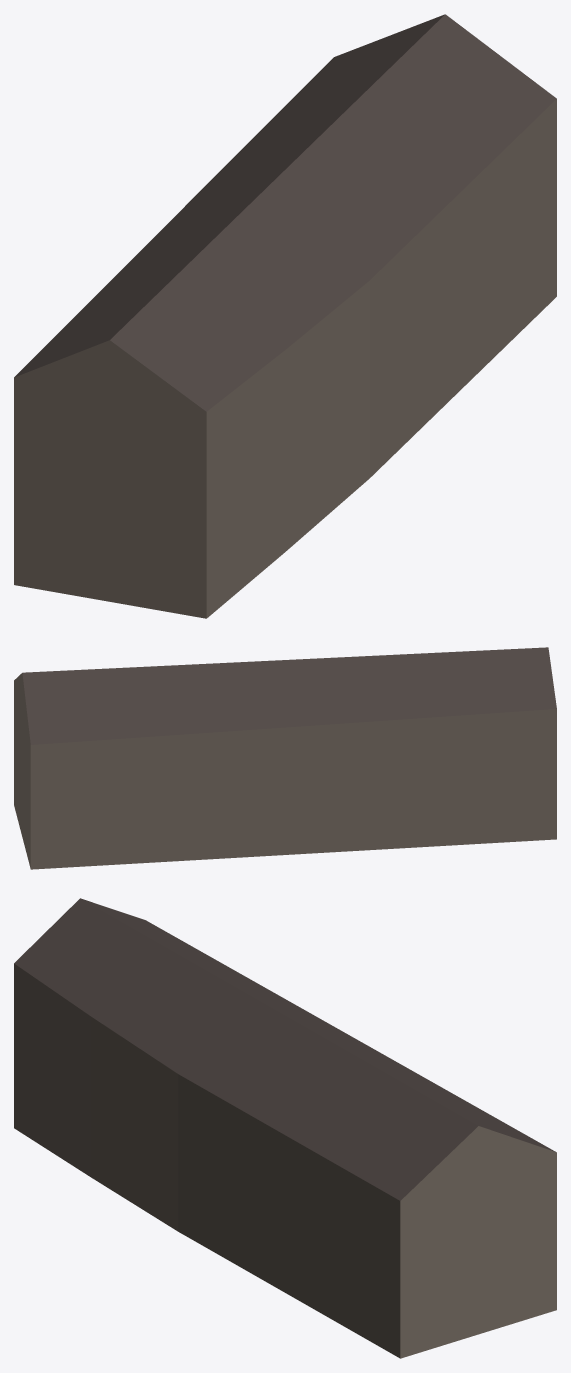
3 renders of one model, top to bottom at view 1: azimuth 30°, elevation 25°; view 2: azimuth 150°, elevation 25°; view 3: azimuth 270°, elevation 25°, orthographic. The views are drawn at different scales.
Visible parts, largest first — view 1: HP-w1435294184; view 2: HP-w1435294184; view 3: HP-w1435294184.
Boxes of the visible parts, left/top/right/bottom form: HP-w1435294184: left=14, top=14, right=556, bottom=618; HP-w1435294184: left=14, top=647, right=556, bottom=869; HP-w1435294184: left=14, top=898, right=556, bottom=1358.
Bounding box in the file's own units: 22.3 × 7.93 × 18.73.
